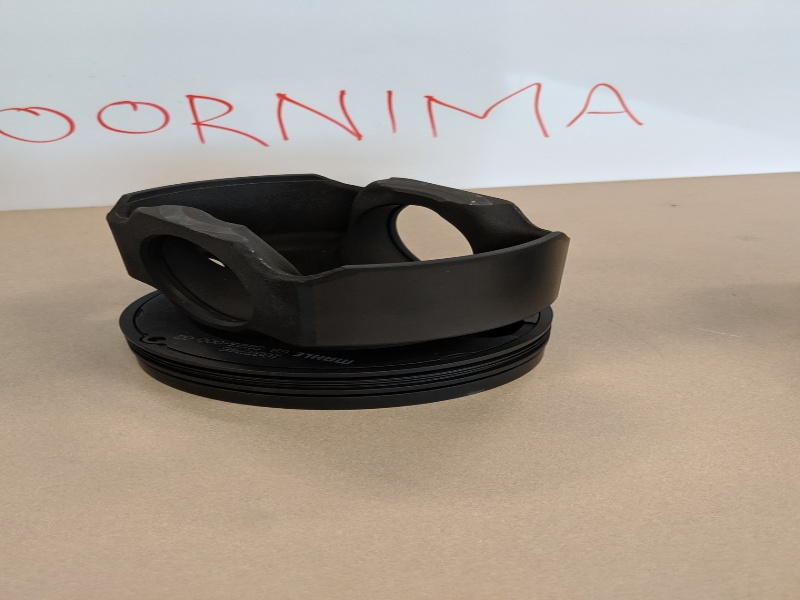piston: (102, 170, 576, 418)
